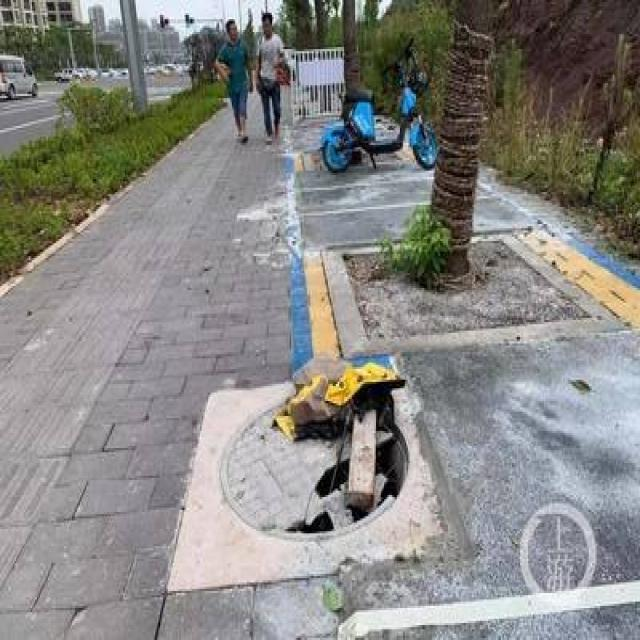manhole: (206, 378, 414, 544)
